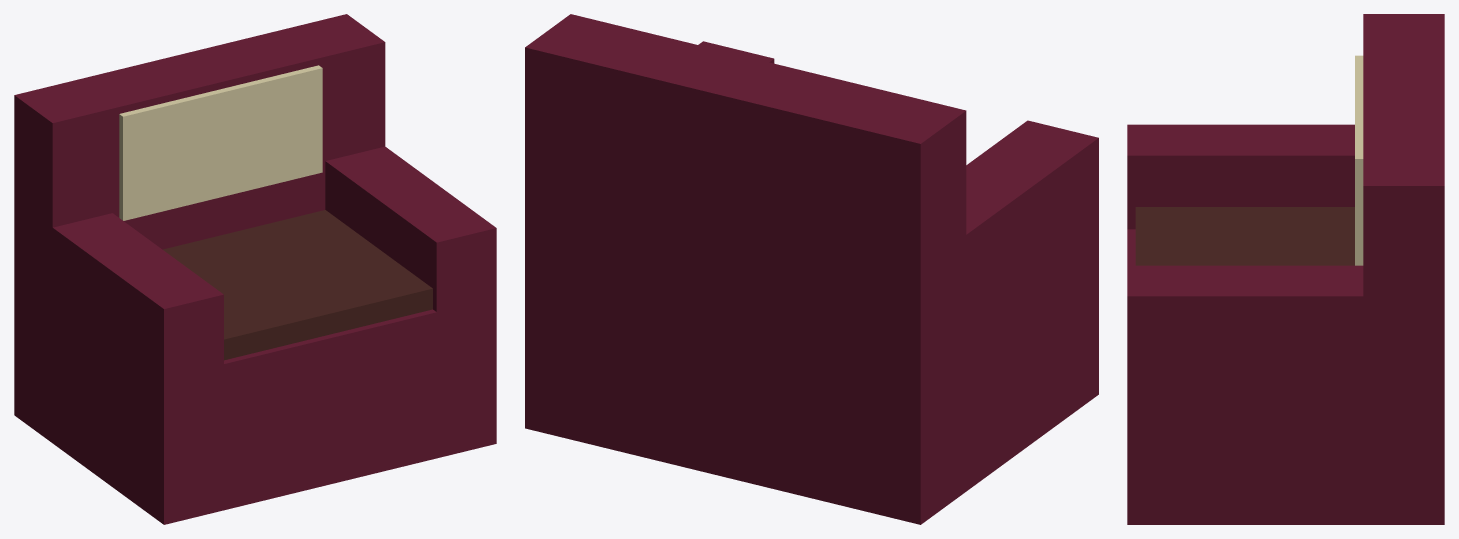
File: prop_armchair.glb
The picture shows the model from 3 angles, left to right: view 1: azimuth 30°, elevation 25°; view 2: azimuth 150°, elevation 25°; view 3: azimuth 270°, elevation 25°; orthographic projection. The views are drawn at different scales.
Visible parts, largest first — view 1: body; view 2: body; view 3: body.
Part boxes in pixels (x1,y1,x2,y2): body: (14,14,496,524); body: (525,14,1098,524); body: (1127,14,1444,524).
Size of the model in its own units: 1 by 0.92 by 0.78.
